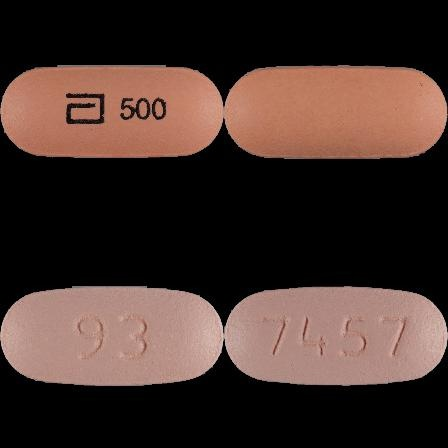50090-1536: (0, 0, 224, 224)
